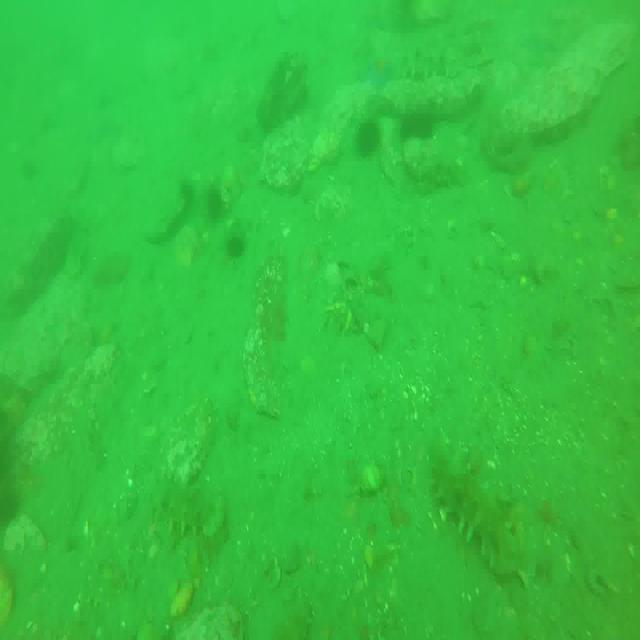echinus: (402, 111, 432, 143), (355, 120, 380, 158), (227, 234, 248, 260), (207, 186, 224, 218)
holothurian: (432, 442, 522, 578), (148, 472, 229, 536), (402, 45, 449, 79)
starfish: (362, 53, 396, 91)
